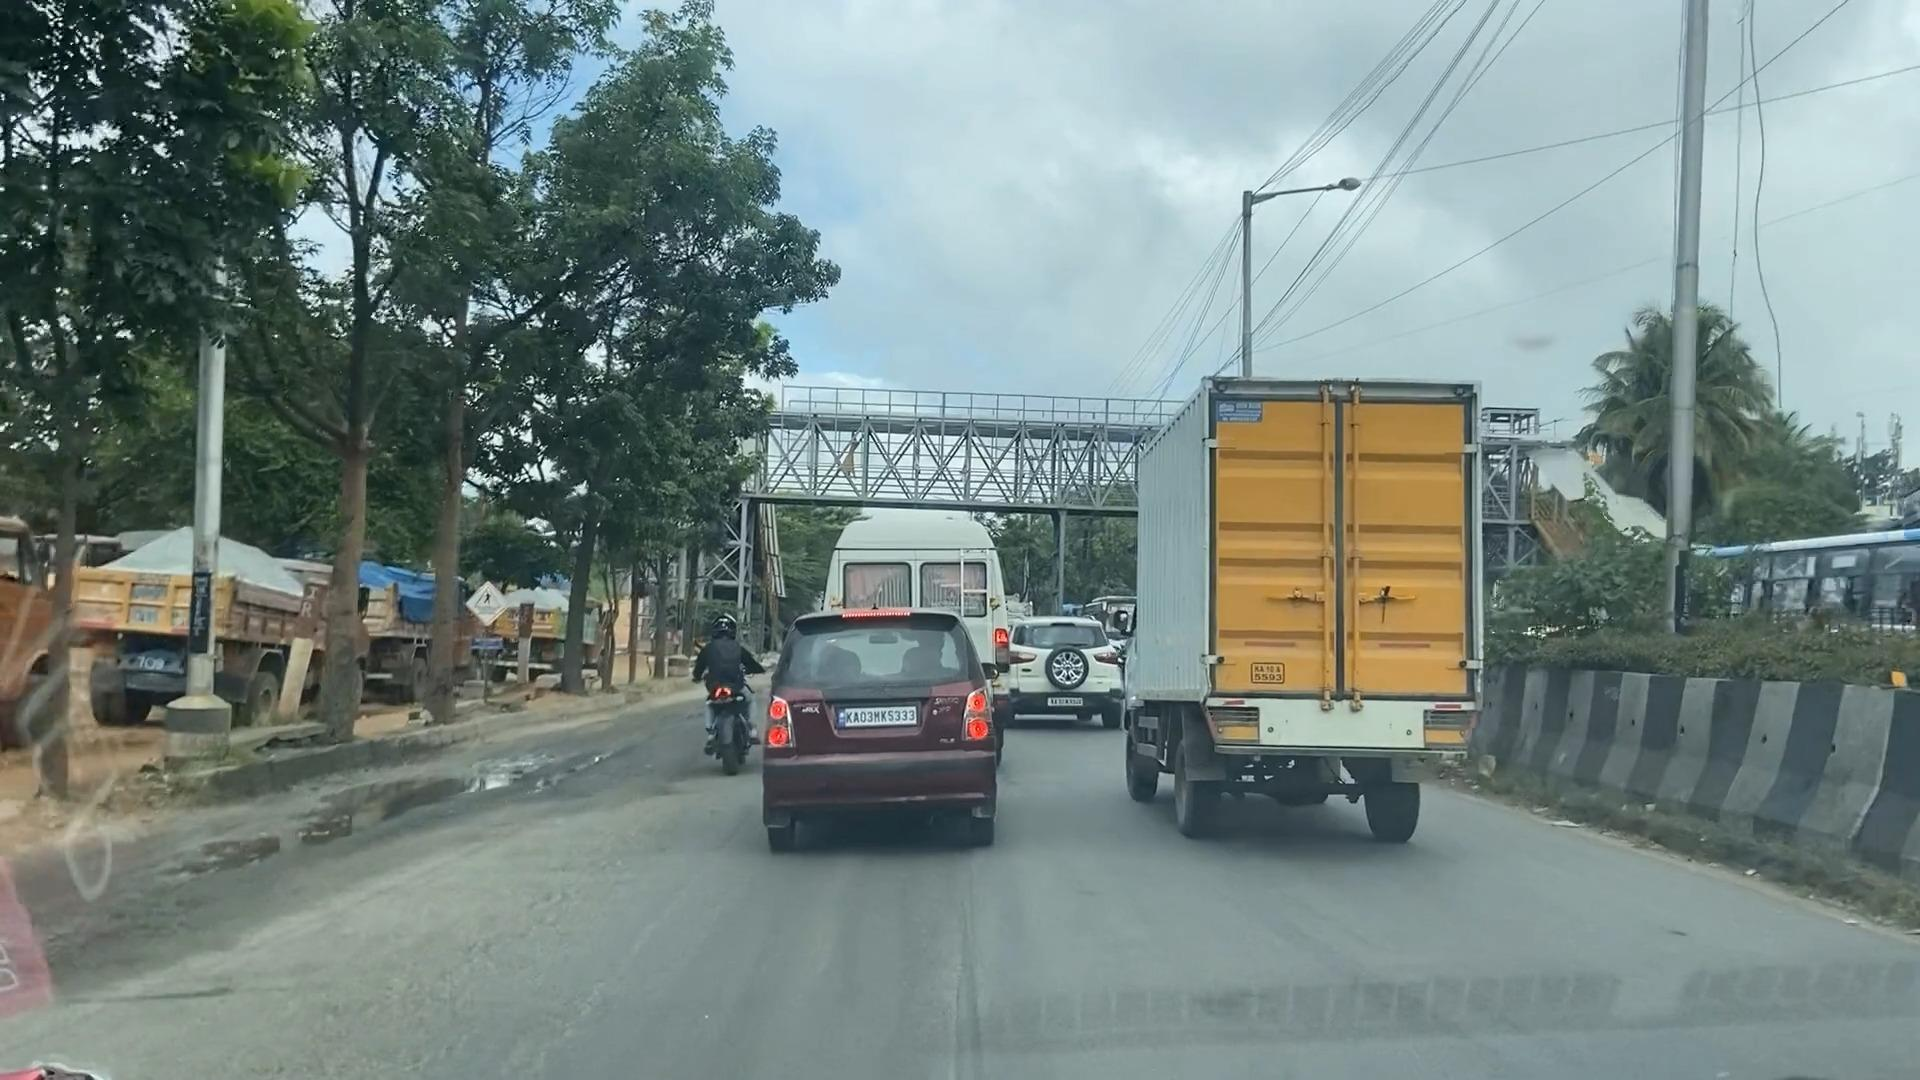HMV: (1129, 377, 1462, 808)
LMV: (771, 612, 988, 840), (704, 616, 752, 762)
RoadDamages: (174, 723, 650, 911), (918, 902, 989, 1080)
